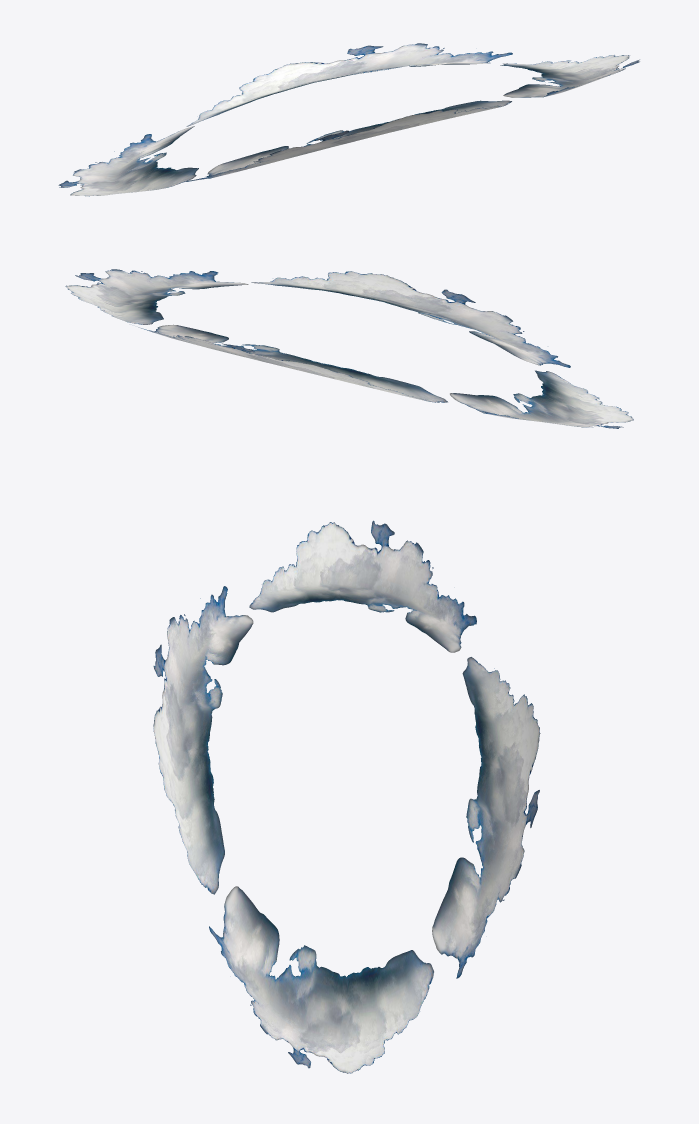
Rendered from bm_yunceng01.FBX.
3 renders of one model, top to bottom at view 1: azimuth 30°, elevation 25°; view 2: azimuth 150°, elevation 25°; view 3: azimuth 270°, elevation 25°, orthographic. The views are drawn at different scales.
Parts seen in each view (by area): view 1: yunceng01; view 2: yunceng01; view 3: yunceng01.
Part boxes in pixels (box(x1,y1,x2,y2)): yunceng01: box(58, 43, 639, 196); yunceng01: box(65, 269, 633, 428); yunceng01: box(153, 520, 540, 1073).
Bounding box in the file's own units: 7706 × 721 × 2213.
